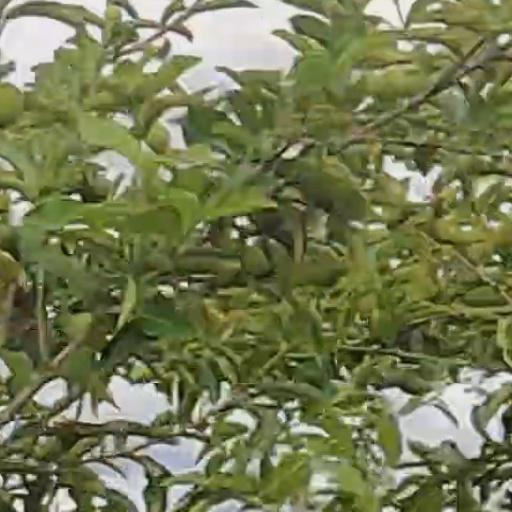acerola: (1, 87, 24, 125)
